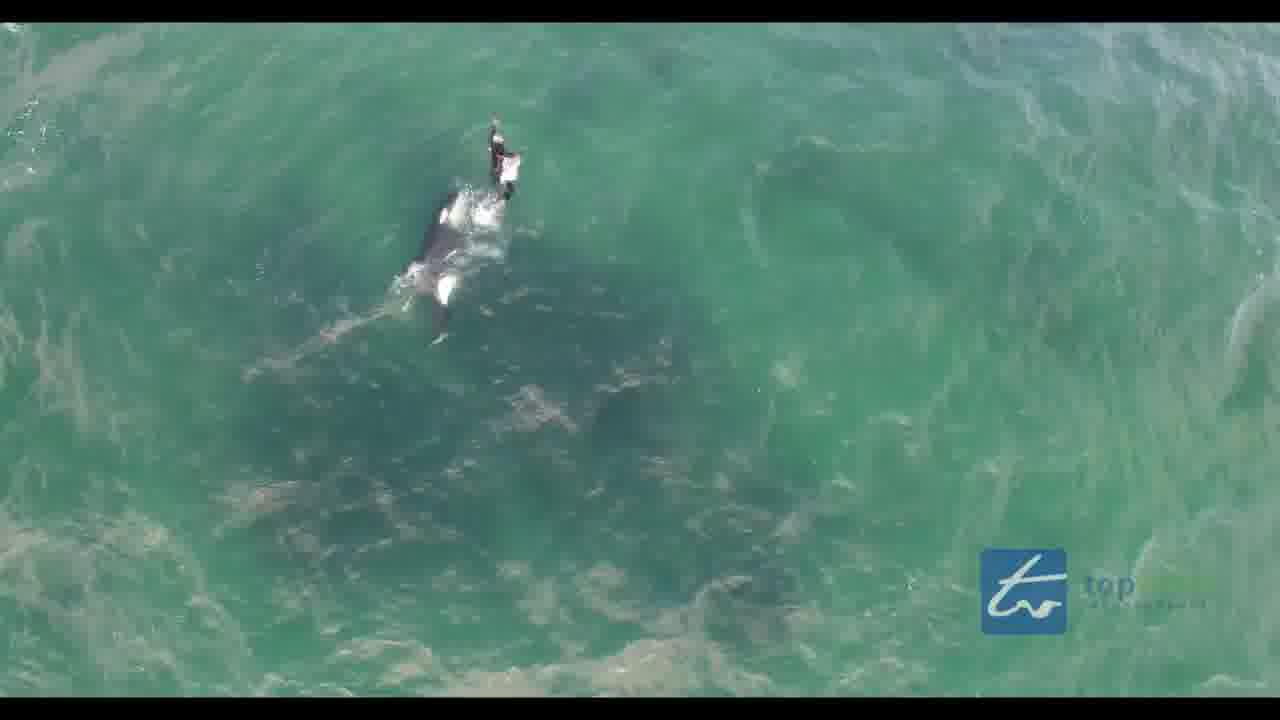human: (481, 114, 524, 199)
